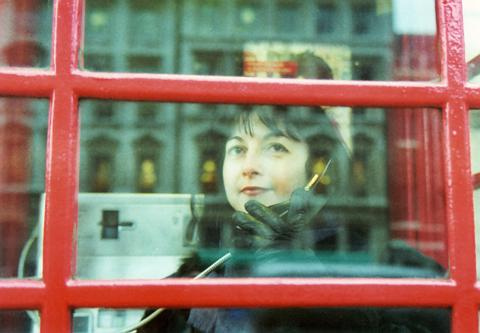person: (163, 105, 444, 279)
